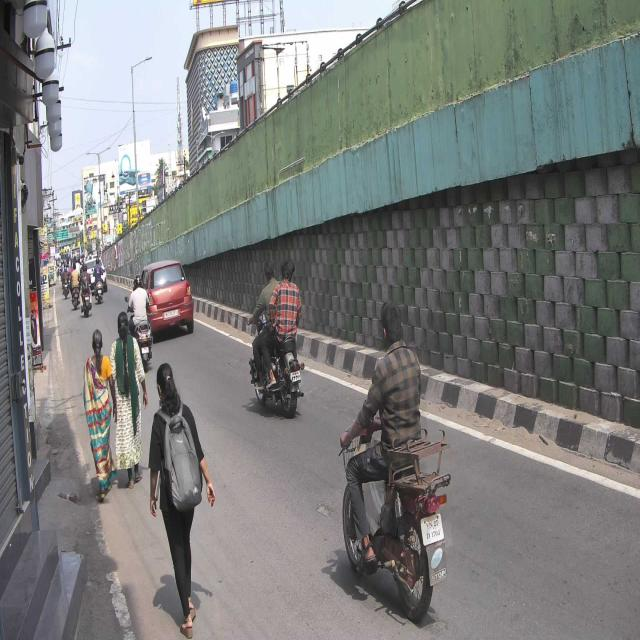double_rider: (248, 258, 304, 412)
single_rider: (338, 302, 453, 622)
